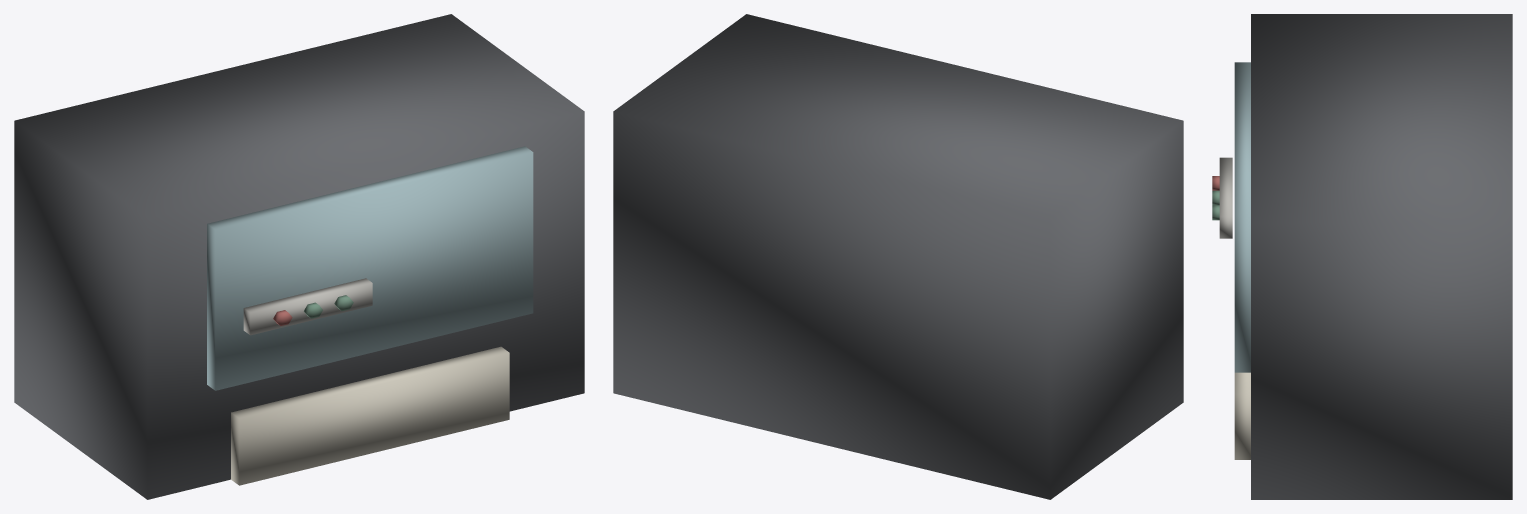
File: terminal_pedestal__wide.glb
3 renders of one model, left to right at view 1: azimuth 30°, elevation 25°; view 2: azimuth 150°, elevation 25°; view 3: azimuth 270°, elevation 25°, orthographic.
Visible parts, largest first — view 1: world; view 2: world; view 3: world.
Boxes of the visible parts, x1=… form: world: x1=14, y1=14, x2=584, y2=499; world: x1=613, y1=14, x2=1183, y2=499; world: x1=1212, y1=14, x2=1512, y2=499.
Size of the model in its own units: 0.682 by 0.42 by 0.4135.
